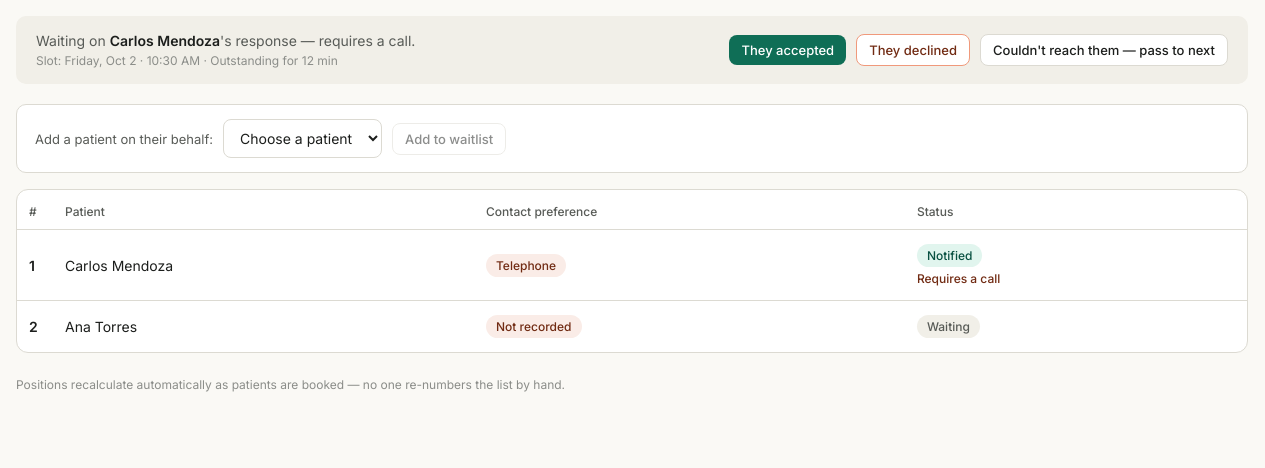
staff waitlist view › the slot control follows the holder (5.5) › says so when the offer is no longer available after "They accepted"
The image size is (1265, 468).
What coordinates should you click on to do the following:
click the button "They accepted"
I would click on:
 (788, 50)
Its box is [730,35,846,65].
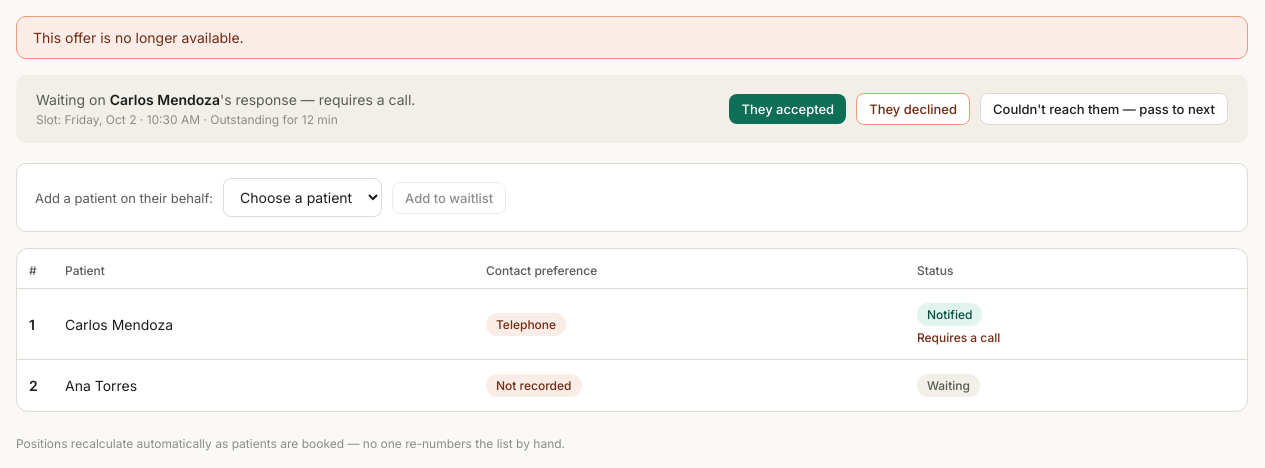
Now the message reads "This offer is no longer available.", box [33,29,244,46]
